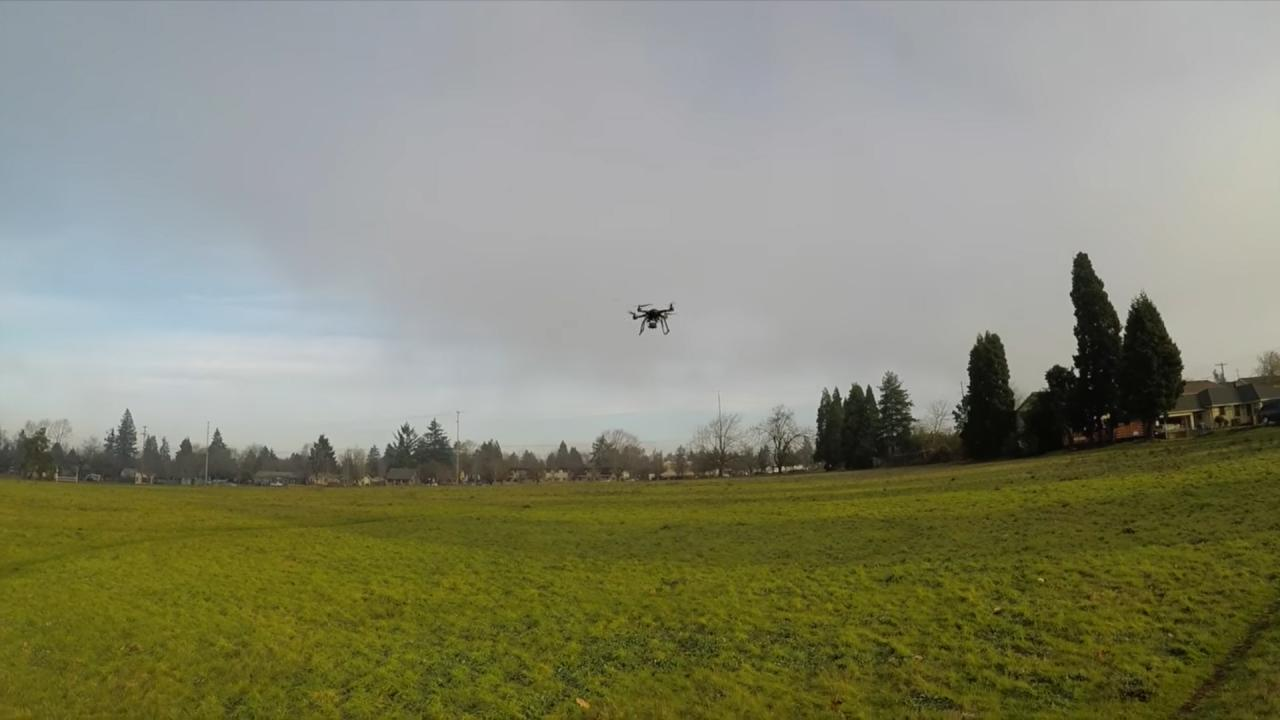Drone: (622, 298, 684, 342)
